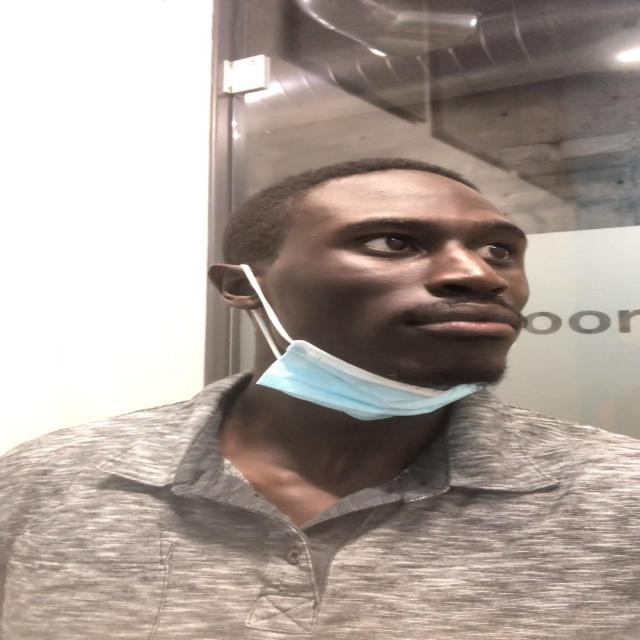face: (259, 178, 533, 383)
